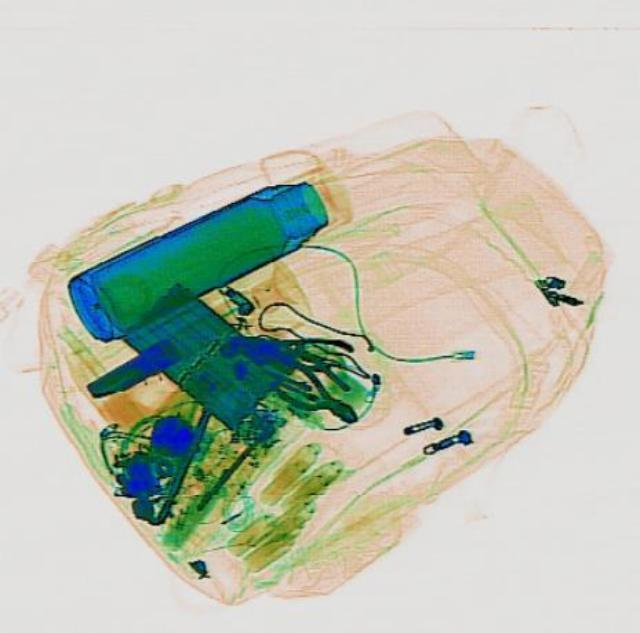Pliers: (258, 350, 368, 436), (253, 328, 353, 367)
